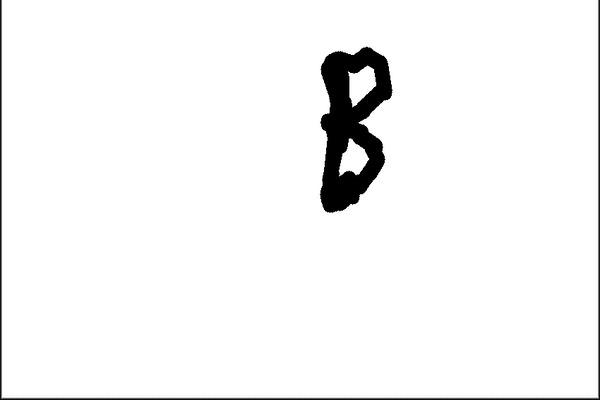B: (307, 36, 397, 215)
